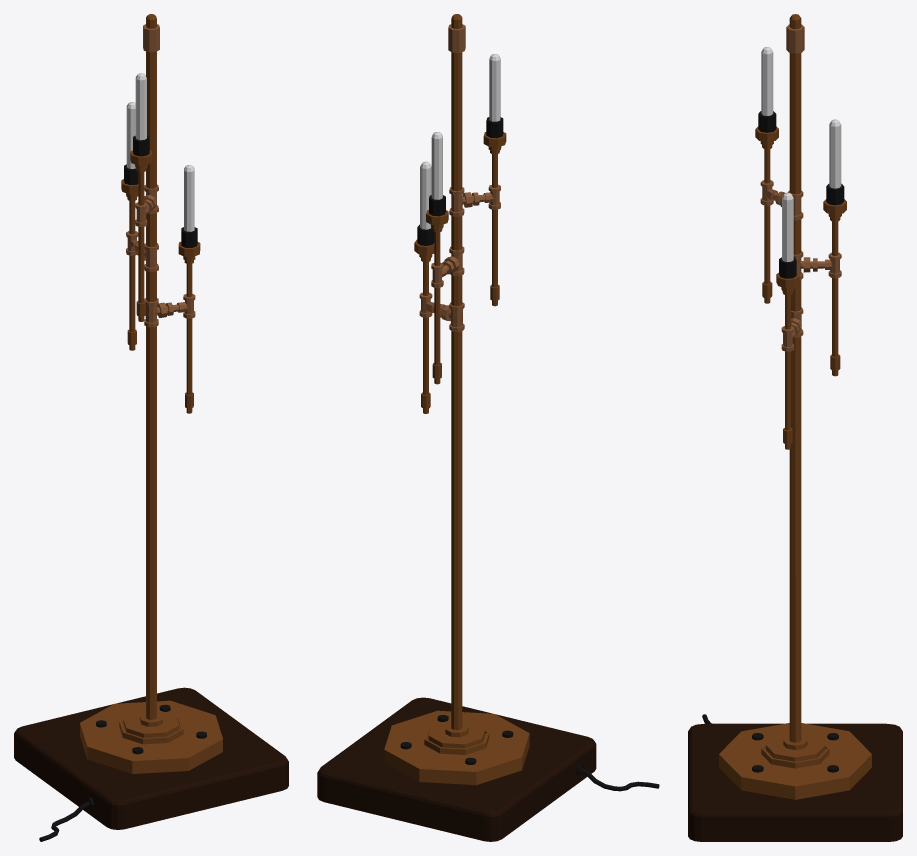
File: floor_lamp.glb
3 renders of one model, left to right at view 1: azimuth 30°, elevation 25°; view 2: azimuth 150°, elevation 25°; view 3: azimuth 270°, elevation 25°, orthographic. The views are drawn at different scales.
Visible parts, largest first — view 1: floor_lamp, floor_lamp_bulbs; view 2: floor_lamp, floor_lamp_bulbs; view 3: floor_lamp, floor_lamp_bulbs.
Part boxes in pixels (x1,y1,x2,y2): floor_lamp: [14, 14, 288, 841]; floor_lamp_bulbs: [126, 73, 194, 231]; floor_lamp: [317, 14, 659, 841]; floor_lamp_bulbs: [420, 54, 500, 229]; floor_lamp: [688, 14, 902, 841]; floor_lamp_bulbs: [761, 47, 841, 261].
Bounding box in the file's own units: 1.53 × 4.5 × 1.12.
